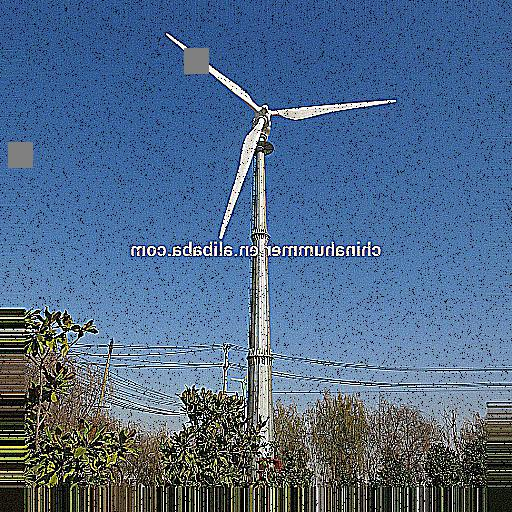wind turbine: (165, 33, 398, 437)
